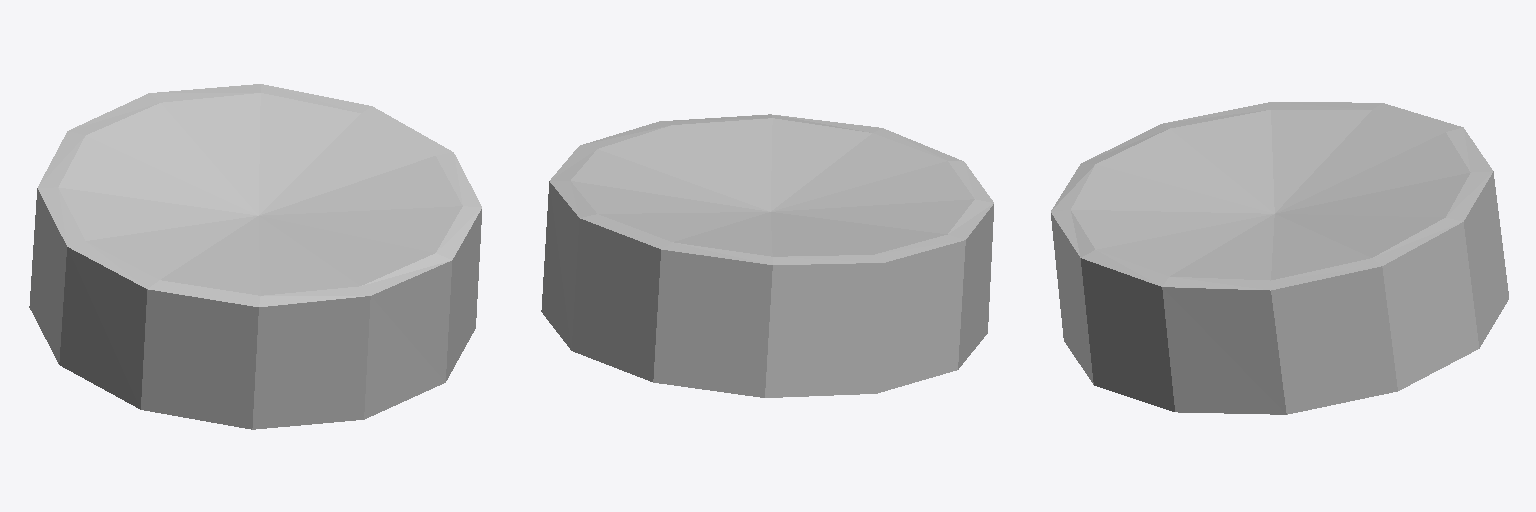
The model's file is sys_button.obj.
3 renders of one model, left to right at view 1: azimuth 30°, elevation 25°; view 2: azimuth 150°, elevation 25°; view 3: azimuth 270°, elevation 25°, orthographic.
Parts seen in each view (by area): view 1: sys_button1:group1 sys_button1:sys_but sys_button1:polySurface1; view 2: sys_button1:group1 sys_button1:sys_but sys_button1:polySurface1; view 3: sys_button1:group1 sys_button1:sys_but sys_button1:polySurface1.
Part boxes in pixels (bbox=[...]): sys_button1:group1 sys_button1:sys_but sys_button1:polySurface1: bbox=[29, 84, 481, 429]; sys_button1:group1 sys_button1:sys_but sys_button1:polySurface1: bbox=[541, 114, 993, 397]; sys_button1:group1 sys_button1:sys_but sys_button1:polySurface1: bbox=[1051, 102, 1508, 414].
Bounding box in the file's own units: 0.01 × 0.0042 × 0.0103.